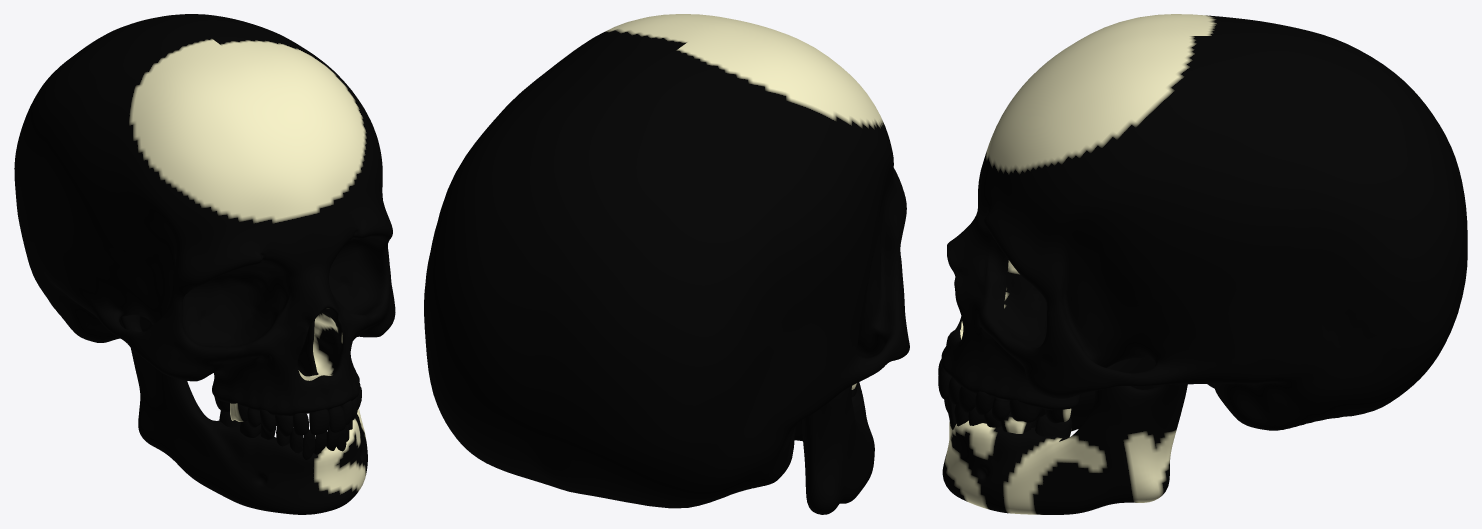
File: 12140_Skull_v3_L2.fbx
The picture shows the model from 3 angles, left to right: view 1: azimuth 30°, elevation 25°; view 2: azimuth 150°, elevation 25°; view 3: azimuth 270°, elevation 25°; orthographic projection. The views are drawn at different scales.
Parts seen in each view (by area): view 1: __ld59_export_tmp__; view 2: __ld59_export_tmp__; view 3: __ld59_export_tmp__.
Boxes of the visible parts, left/top/right/bottom form: __ld59_export_tmp__: left=14, top=14, right=395, bottom=514; __ld59_export_tmp__: left=424, top=14, right=909, bottom=514; __ld59_export_tmp__: left=938, top=14, right=1467, bottom=514.
Size of the model in its own units: 413 by 573 by 614.
Materials: 1 (1 with a texture image).
